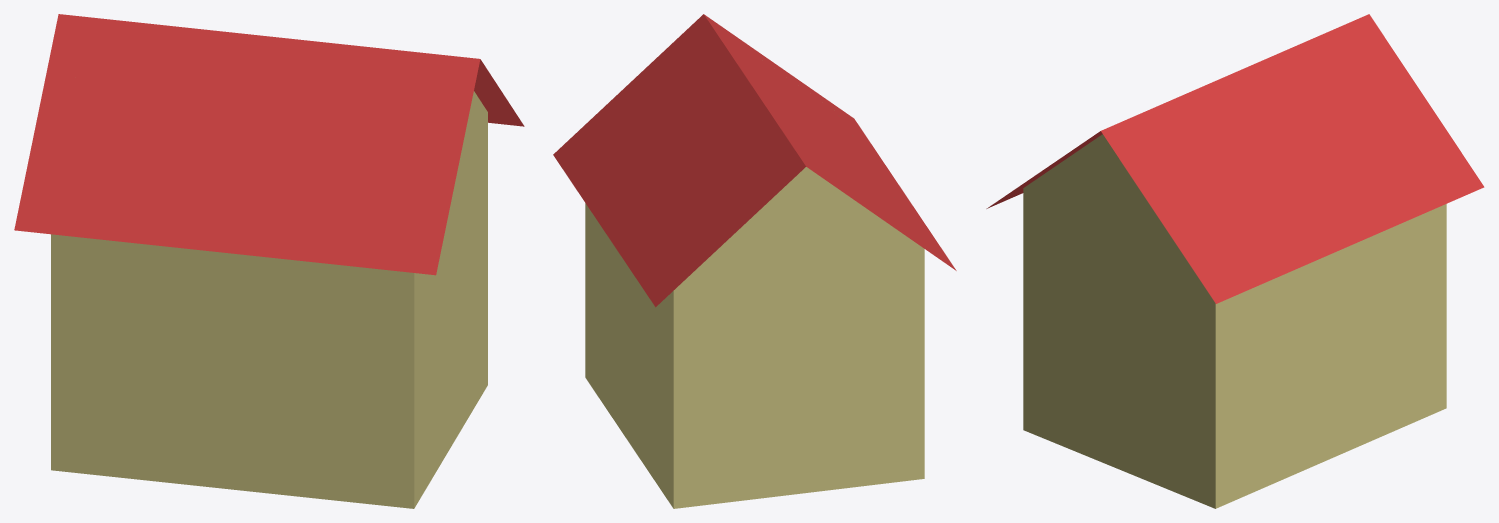
The picture shows the model from 3 angles, left to right: view 1: azimuth 30°, elevation 25°; view 2: azimuth 150°, elevation 25°; view 3: azimuth 270°, elevation 25°; orthographic projection. The views are drawn at different scales.
Bounding box in the file's own units: 18.67 × 18.62 × 14.27.
